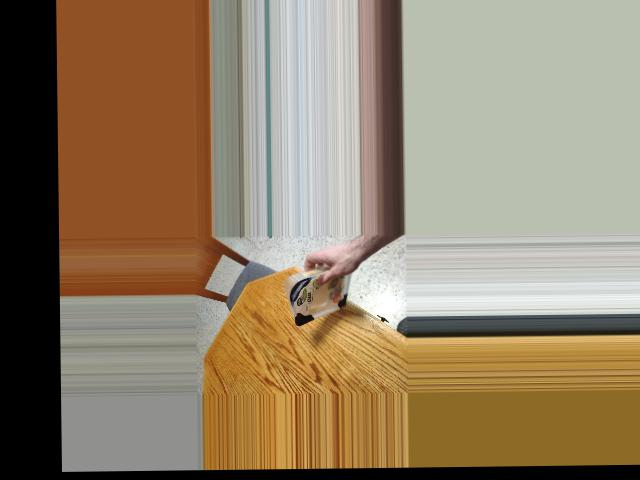cheese: (288, 269, 359, 321)
